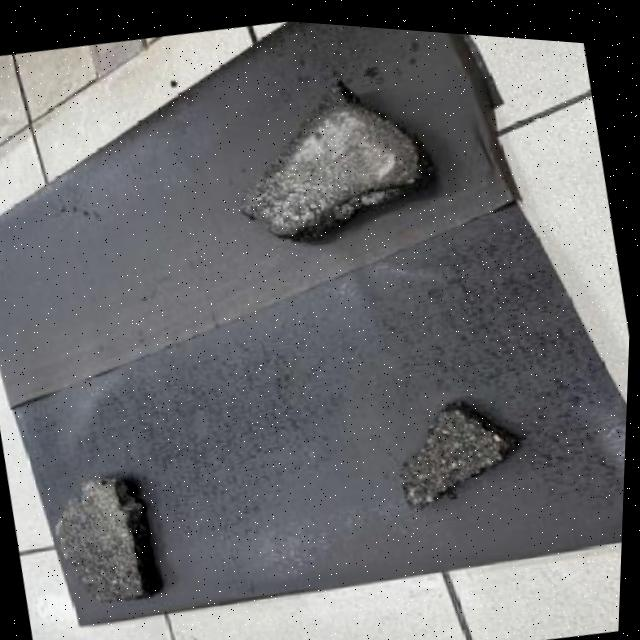Road Debris: (502, 285, 633, 407), (168, 401, 279, 524), (602, 575, 624, 623)
